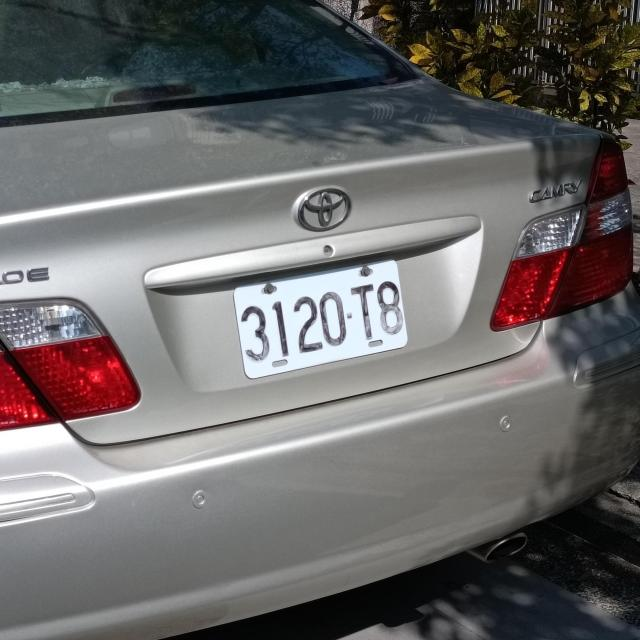W: (231, 258, 412, 379)
